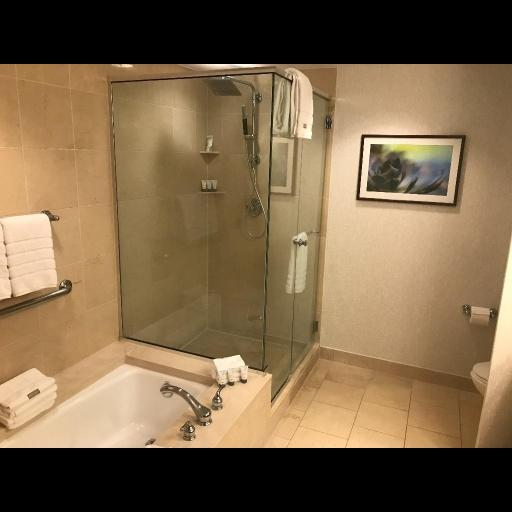clean_bathtub: (0, 336, 273, 452)
clean_floor: (263, 356, 482, 452)
clean_toilet: (2, 65, 512, 450)
folded_towel: (3, 219, 62, 302), (0, 363, 58, 432), (281, 67, 312, 144), (282, 231, 310, 300)
